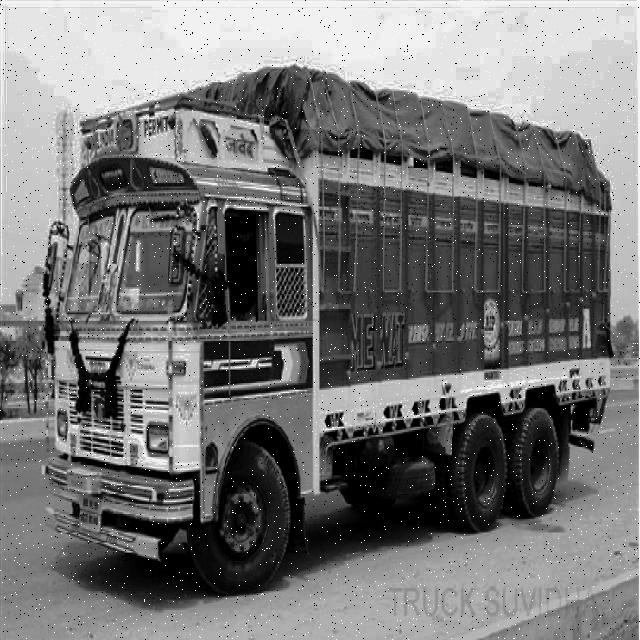HCV: (36, 43, 624, 597)
